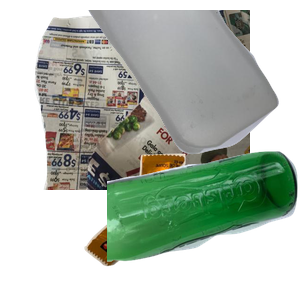glass: (107, 149, 300, 300)
paper: (32, 10, 272, 190)
plastic: (84, 10, 300, 157)
trash: (82, 151, 260, 300)
